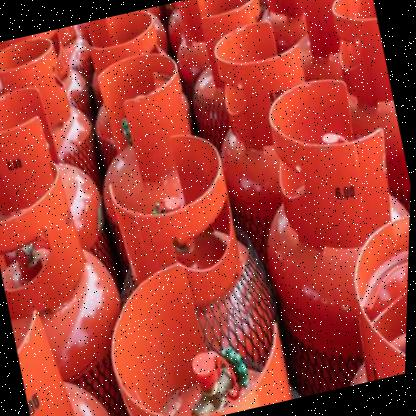gas-tank: (240, 72, 413, 387), (95, 125, 294, 374), (86, 234, 311, 415), (0, 149, 153, 415), (0, 67, 141, 315), (175, 16, 337, 228), (78, 45, 228, 223), (0, 25, 115, 218), (315, 0, 415, 218), (258, 0, 397, 128), (7, 288, 131, 415), (324, 208, 410, 384), (180, 0, 289, 131), (77, 6, 174, 90)
